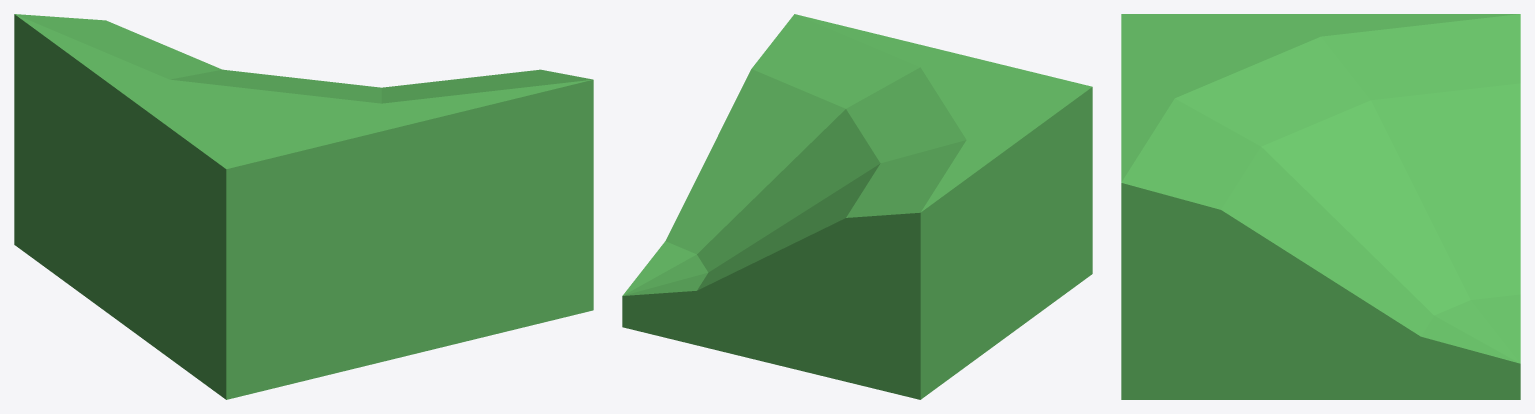
Rendered from Hill_Corner_Inner_2x2.glb.
The picture shows the model from 3 angles, left to right: view 1: azimuth 30°, elevation 25°; view 2: azimuth 150°, elevation 25°; view 3: azimuth 270°, elevation 25°; orthographic projection. The views are drawn at different scales.
Parts seen in each view (by area): view 1: object1; view 2: object1; view 3: object1.
Boxes of the visible parts, box(x1,y1,x2,y2) form: object1: box(14, 14, 593, 399); object1: box(622, 14, 1092, 399); object1: box(1121, 14, 1520, 399).
Size of the model in its own units: 2 by 1.2 by 2.
